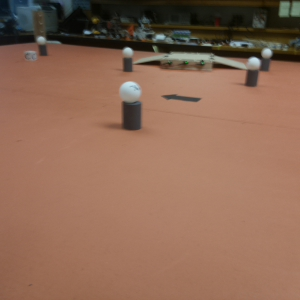corner: (34, 12, 45, 37)
obstacle: (122, 81, 142, 129), (246, 58, 259, 85), (121, 47, 134, 71), (260, 48, 272, 69), (37, 37, 47, 56)
side: (160, 59, 213, 69)
slope: (214, 55, 243, 74), (136, 53, 161, 69)
start: (159, 92, 204, 104)
